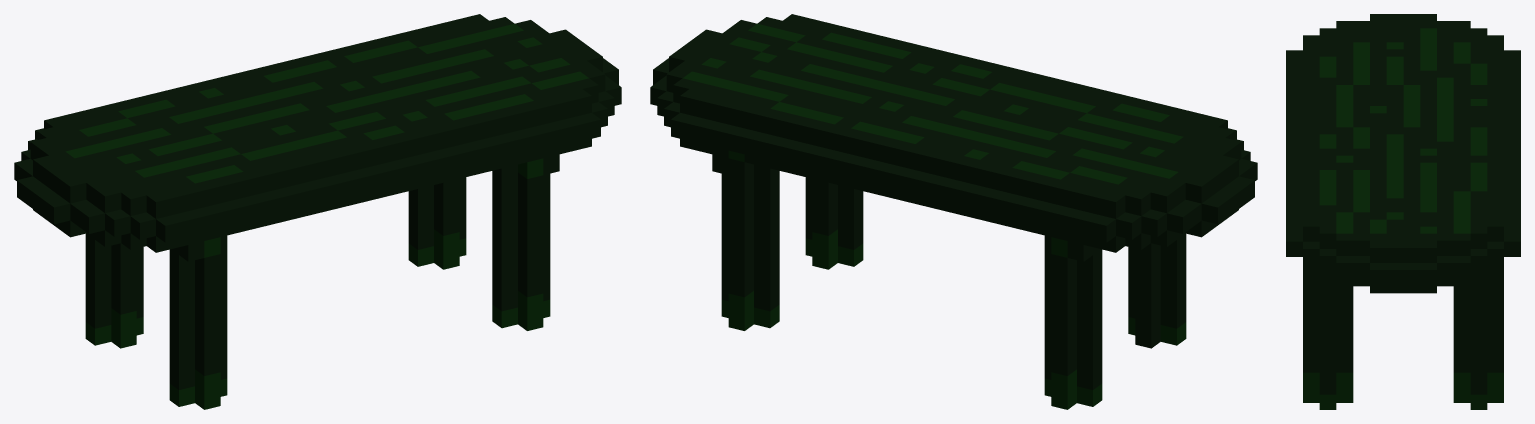
Rendered from prop_table_dark_green.glb.
3 views of the same model, side by side, from view 1: azimuth 30°, elevation 25°; view 2: azimuth 150°, elevation 25°; view 3: azimuth 270°, elevation 25° (orthographic). The views are drawn at different scales.
Visible parts, largest first — view 1: prop_table_dark_green; view 2: prop_table_dark_green; view 3: prop_table_dark_green.
Part boxes in pixels (x1,y1,x2,y2): prop_table_dark_green: (14, 14, 621, 409); prop_table_dark_green: (650, 14, 1257, 409); prop_table_dark_green: (1286, 14, 1520, 409).
Bounding box in the file's own units: 3.5 × 1.3 × 1.4.
Materials: 1 (1 with a texture image).
